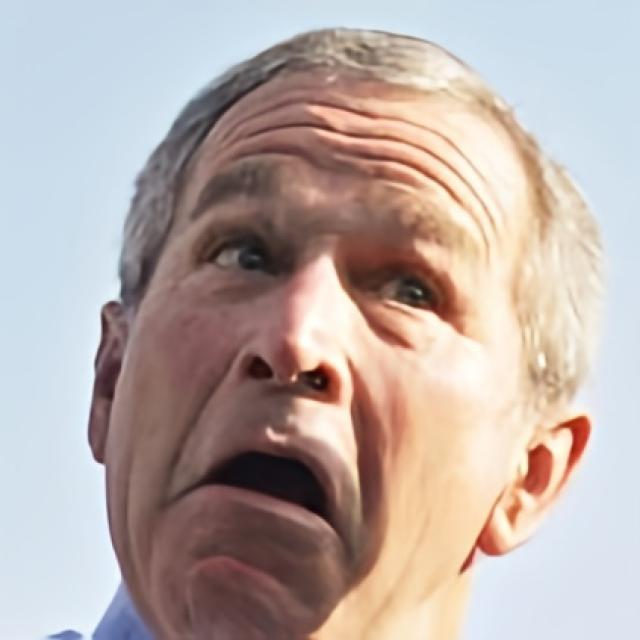fear: (104, 74, 525, 640)
